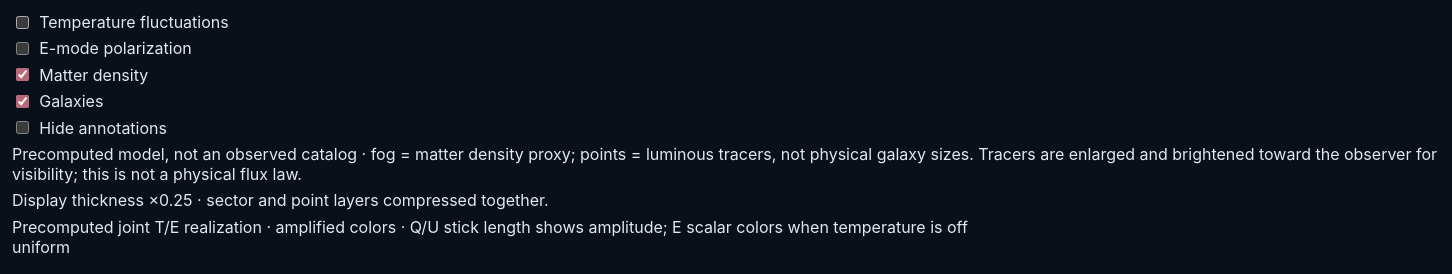
Scenario: allows independent T and polarization toggles, combined display, and both OFF
Expected: the text "uniform" is shown, [12,237,70,257]
Click the checkbox labelled "Temperature fluctuations" at (22, 22), box [16,16,29,28]
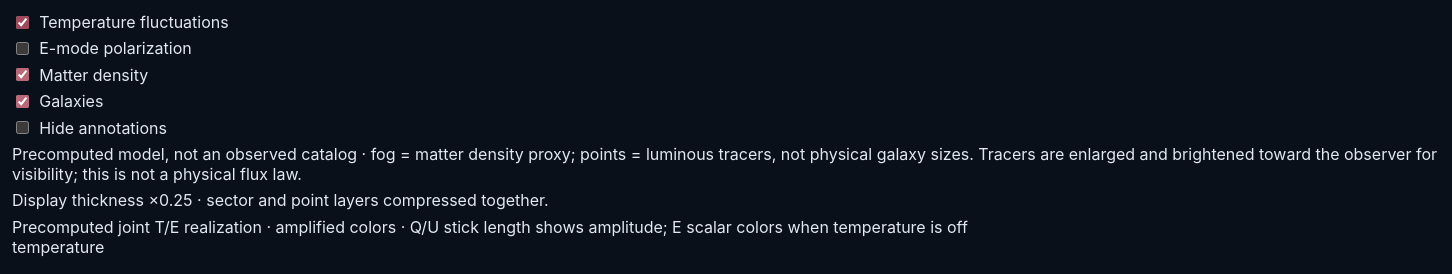
Expected: the text "temperature" is shown, [12,237,104,257]
Click the checkbox labelled "E-mode polarization" at (22, 48), box [16,42,29,55]
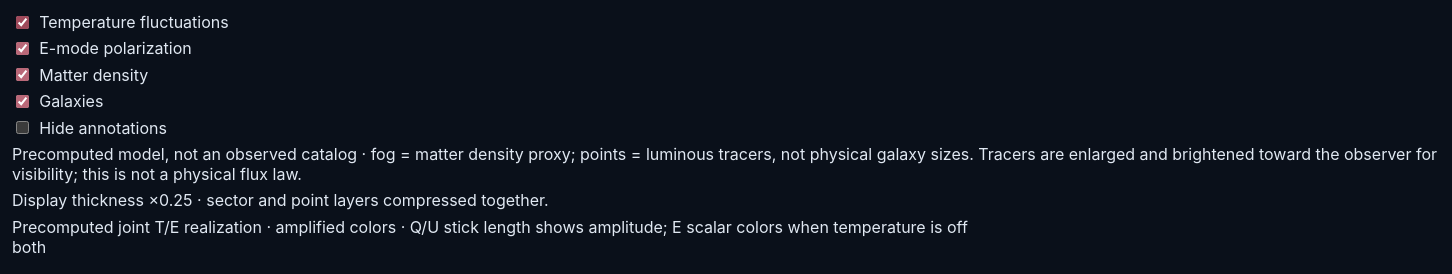
Expected: the text "both" is shown, [12,237,46,257]
Click the checkbox labelled "Temperature fluctuations" at (22, 22), box [16,16,29,28]
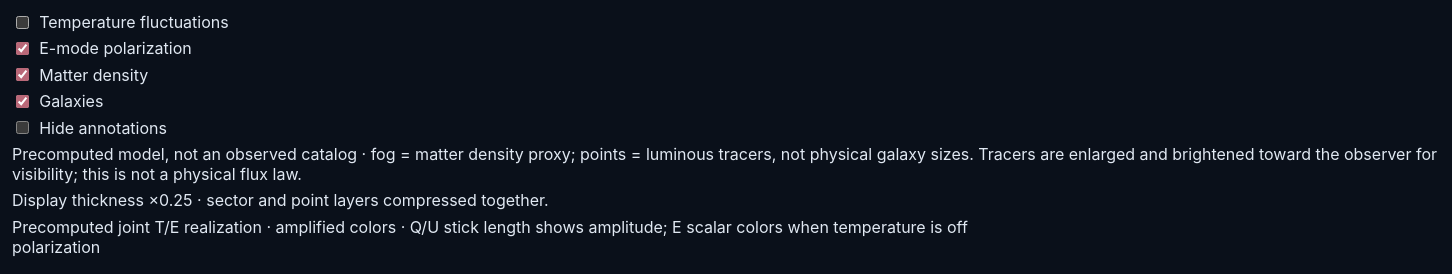
Expected: the text "polarization" is shown, [12,237,100,257]
Click the checkbox labelled "Temperature fluctuations" at (22, 22), box [16,16,29,28]
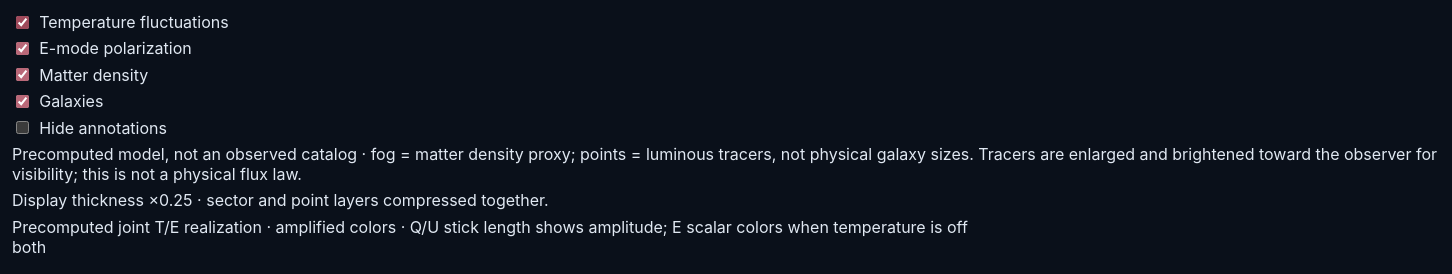
Click the checkbox labelled "E-mode polarization" at (22, 48), box [16,42,29,55]
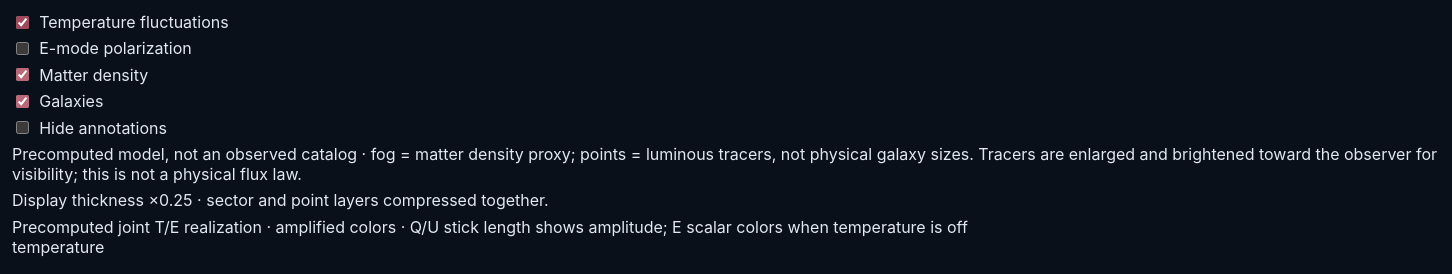
Expected: the text "temperature" is shown, [12,237,104,257]
Click the checkbox labelled "Temperature fluctuations" at (22, 22), box [16,16,29,28]
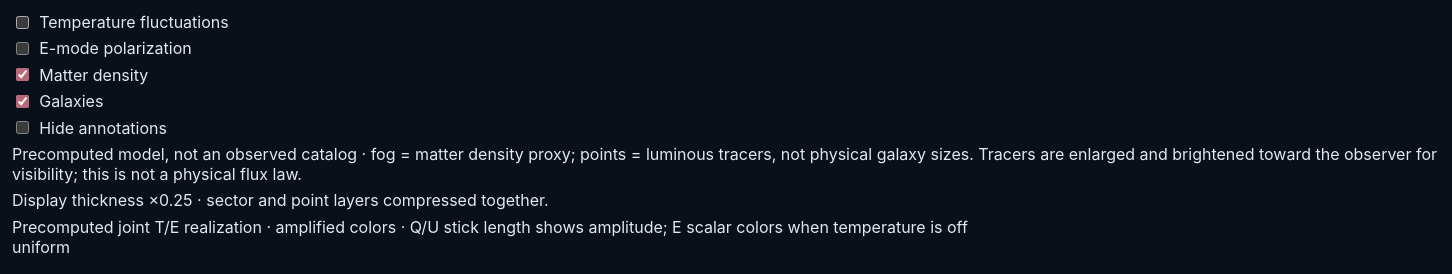
Expected: the text "uniform" is shown, [12,237,70,257]
